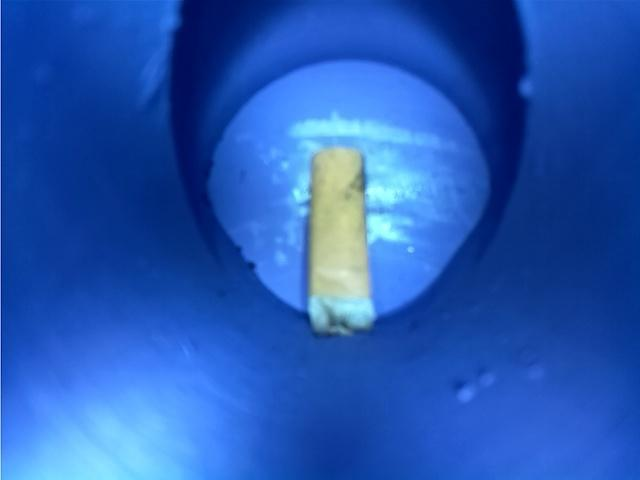megot: (293, 141, 389, 345)
